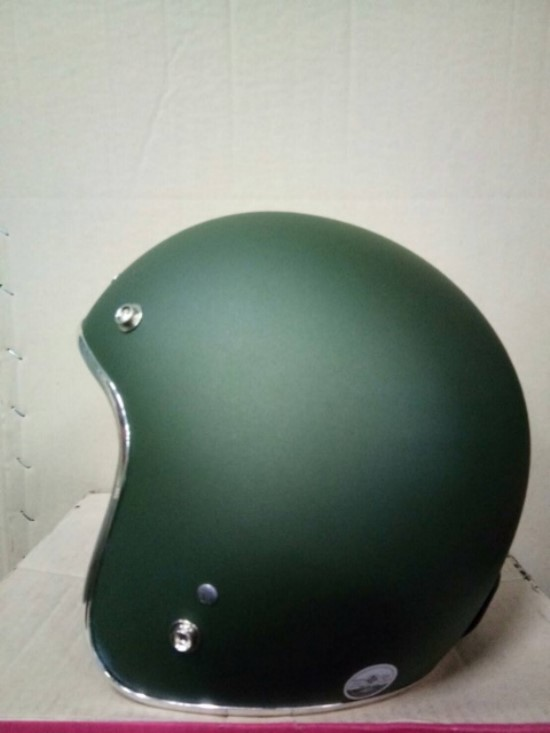helmet: (62, 201, 539, 723)
